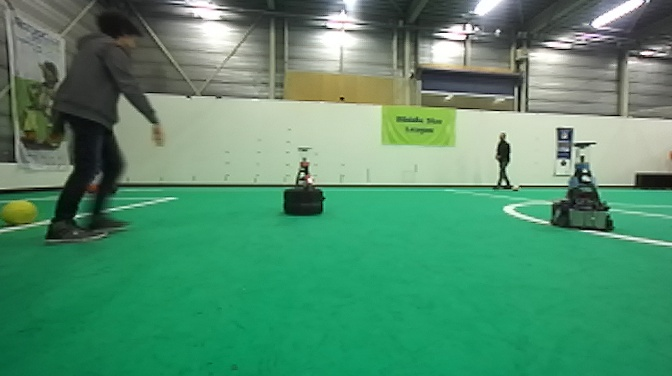ball: (1, 194, 43, 235), (84, 179, 98, 193), (510, 182, 521, 193)
human: (40, 9, 169, 247), (490, 129, 517, 191)
robot: (546, 140, 618, 235), (279, 143, 326, 217)
